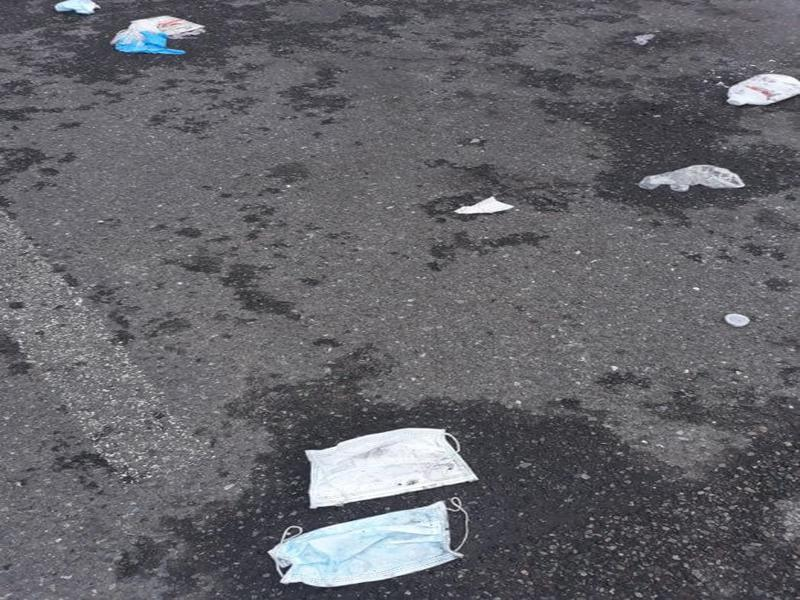bottle: (727, 50, 800, 115)
gloves: (631, 159, 747, 199)
mask: (268, 497, 478, 589), (302, 423, 484, 511)
